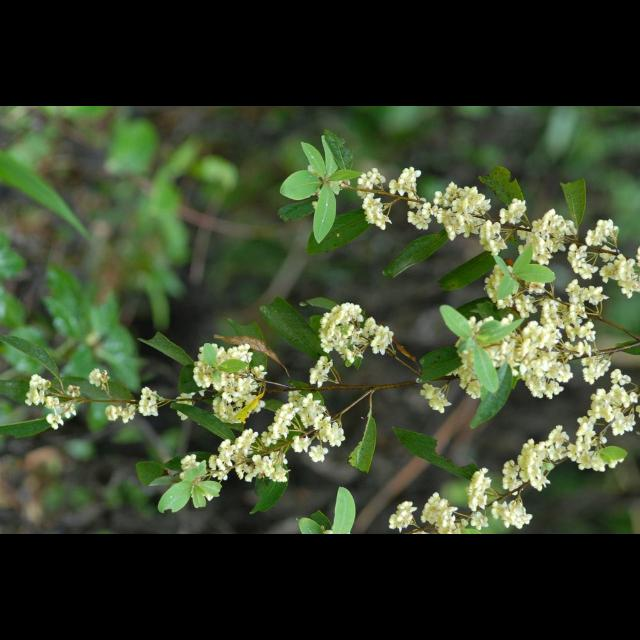Flower: (354, 167, 640, 533), (192, 340, 270, 426), (180, 428, 268, 502), (270, 388, 344, 468), (319, 303, 396, 365), (24, 374, 80, 432), (107, 385, 163, 419), (306, 350, 332, 390), (88, 366, 112, 390), (174, 392, 194, 418)
